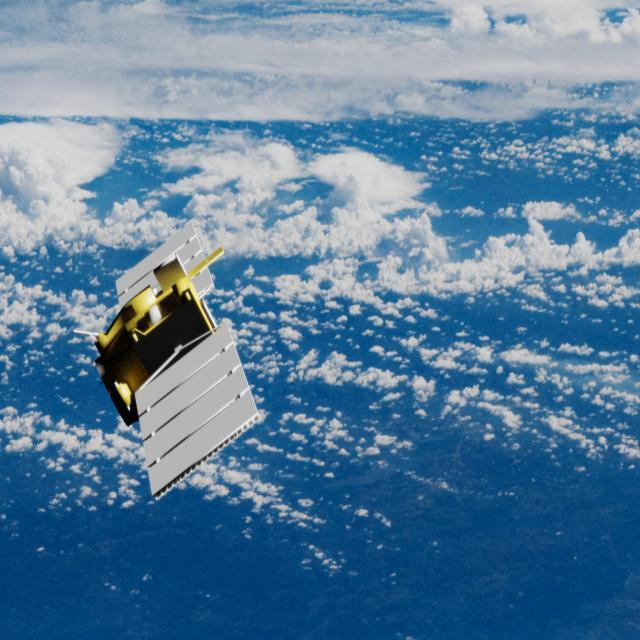satellite: (83, 199, 273, 498)
